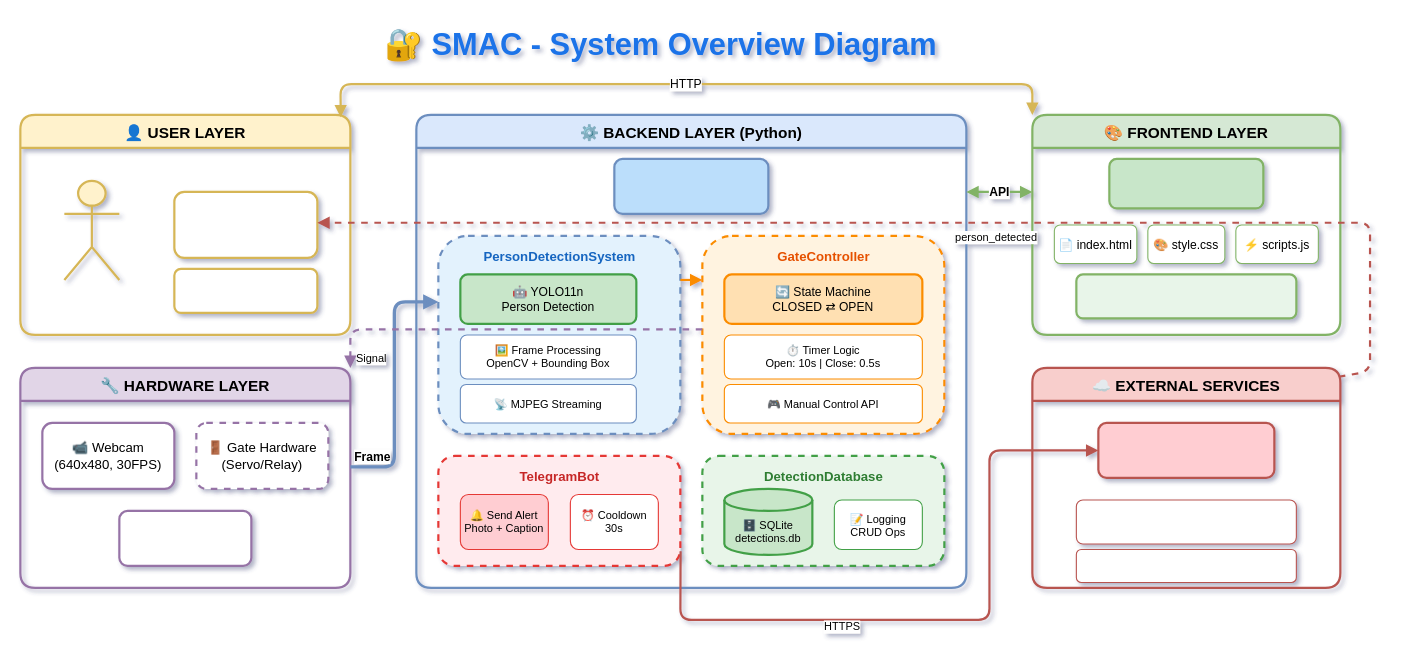
The diagram is 1405 pixels wide and 658 high, and some of its shapes have lost their labels. Each missing label, with the centre of its shape:
🌐 Flask Server Port: 8000: the point at 691,186
🌐 Web Browser (Desktop/Mobile): the point at 245,224
🐙 GitHub Repository github.com/bathanh0309/SMAC: the point at 1185,521
👨‍💼 Admin/User: the point at 91,229
💻 PC/Server Windows/Linux: the point at 185,537
📊 Dashboard UI Video | Status | Controls: the point at 1186,296
📱 Telegram App: the point at 245,290
📲 Telegram Bot API api.telegram.org: the point at 1186,450
🟢 Node.js Server Port: 3000: the point at 1186,183
🧠 YOLO Weights yolo11n.pt (ultralytics): the point at 1185,565
